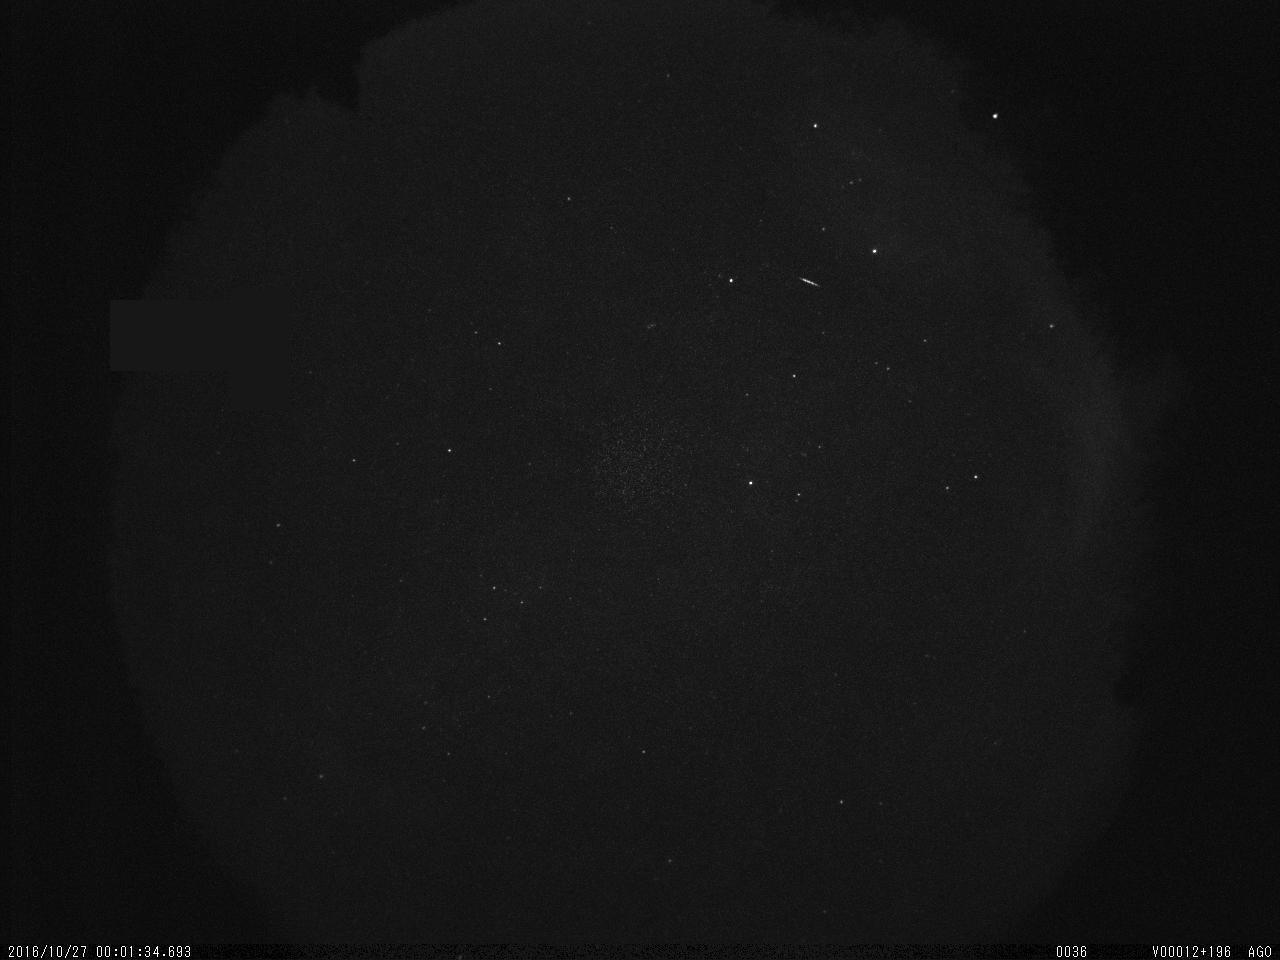Meteor: (798, 275, 821, 287)
